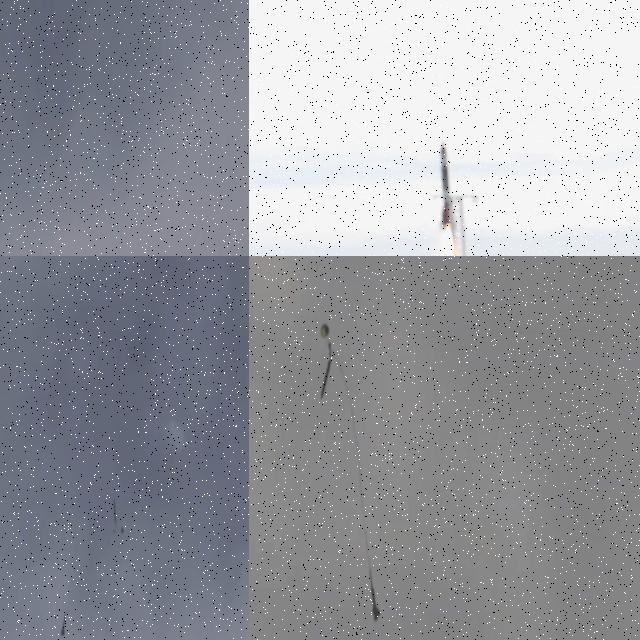Rocket: (439, 142, 452, 225), (369, 586, 381, 621), (60, 612, 67, 638)
